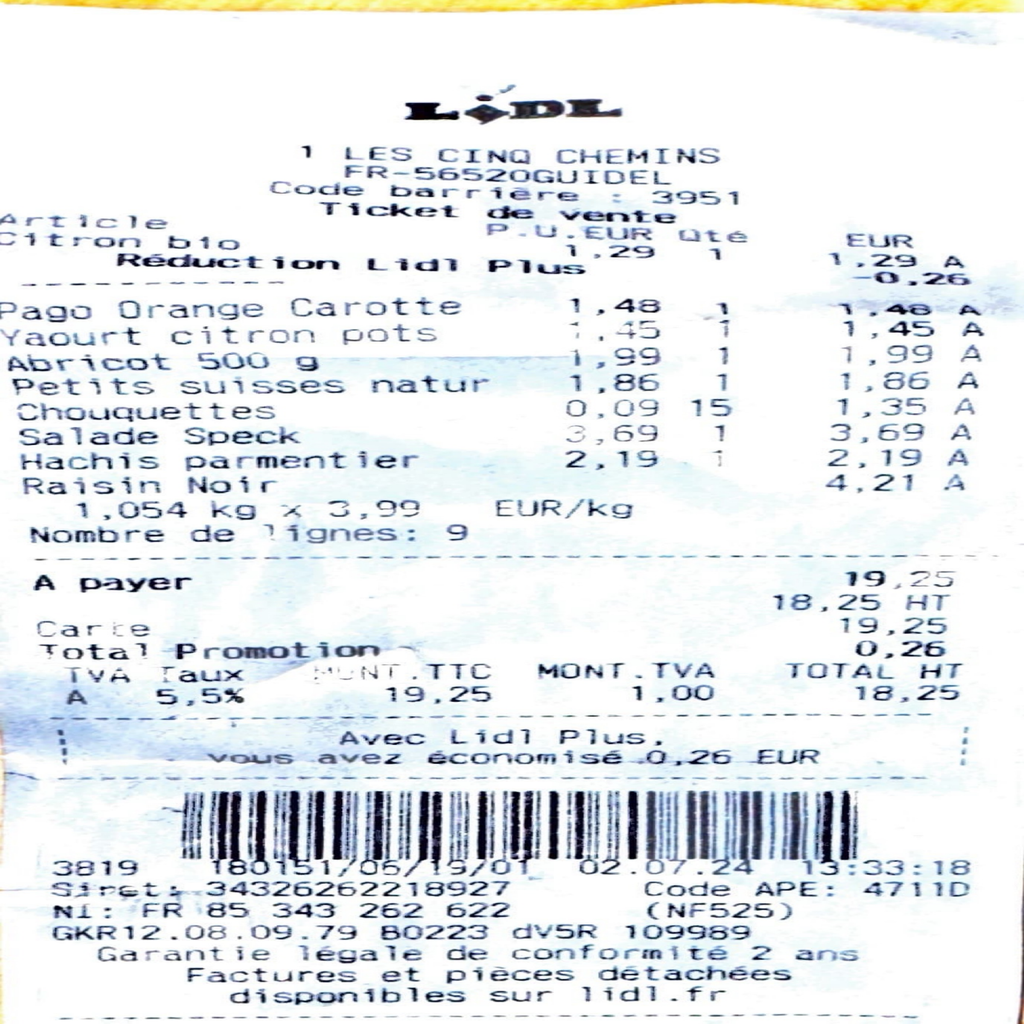recipt: (0, 4, 1014, 1009)
